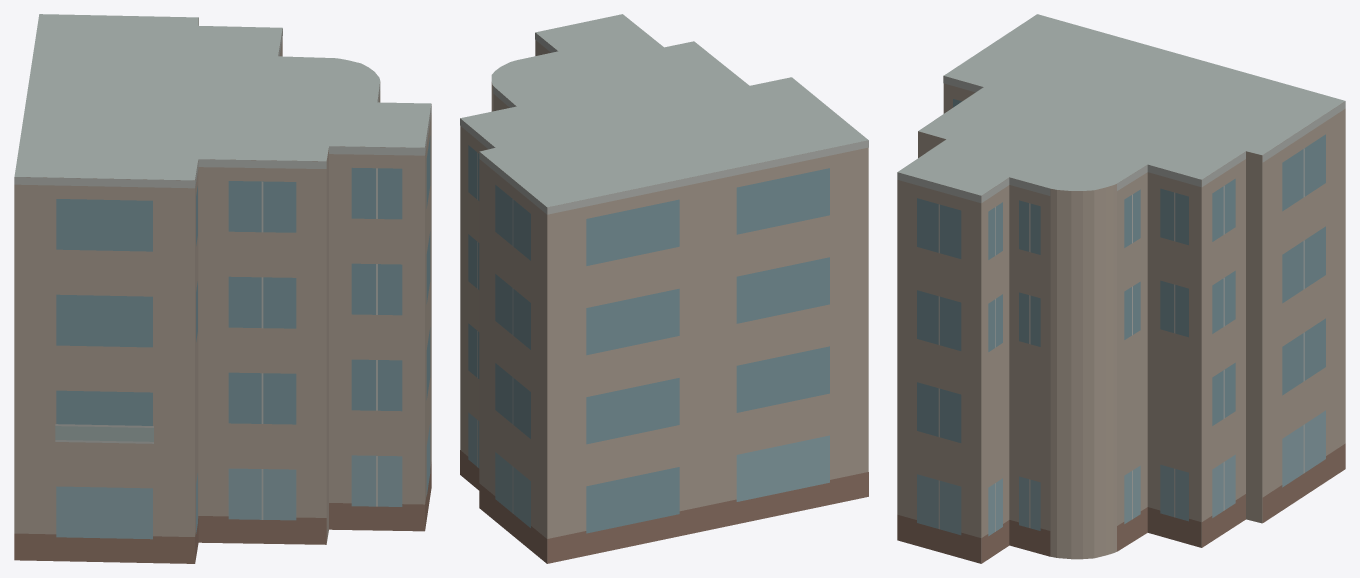
Rendered from survey-upis-32902537.glb.
3 views of the same model, side by side, from view 1: azimuth 30°, elevation 25°; view 2: azimuth 150°, elevation 25°; view 3: azimuth 270°, elevation 25° (orthographic). The views are drawn at different scales.
Parts seen in each view (by area): view 1: survey-upis-32902537.tmp; view 2: survey-upis-32902537.tmp; view 3: survey-upis-32902537.tmp.
Part boxes in pixels (box(x1,y1,x2,y2)): survey-upis-32902537.tmp: box(14, 14, 431, 563); survey-upis-32902537.tmp: box(460, 14, 868, 563); survey-upis-32902537.tmp: box(897, 14, 1345, 563).
Bounding box in the file's own units: 12.56 × 11.85 × 13.09.
